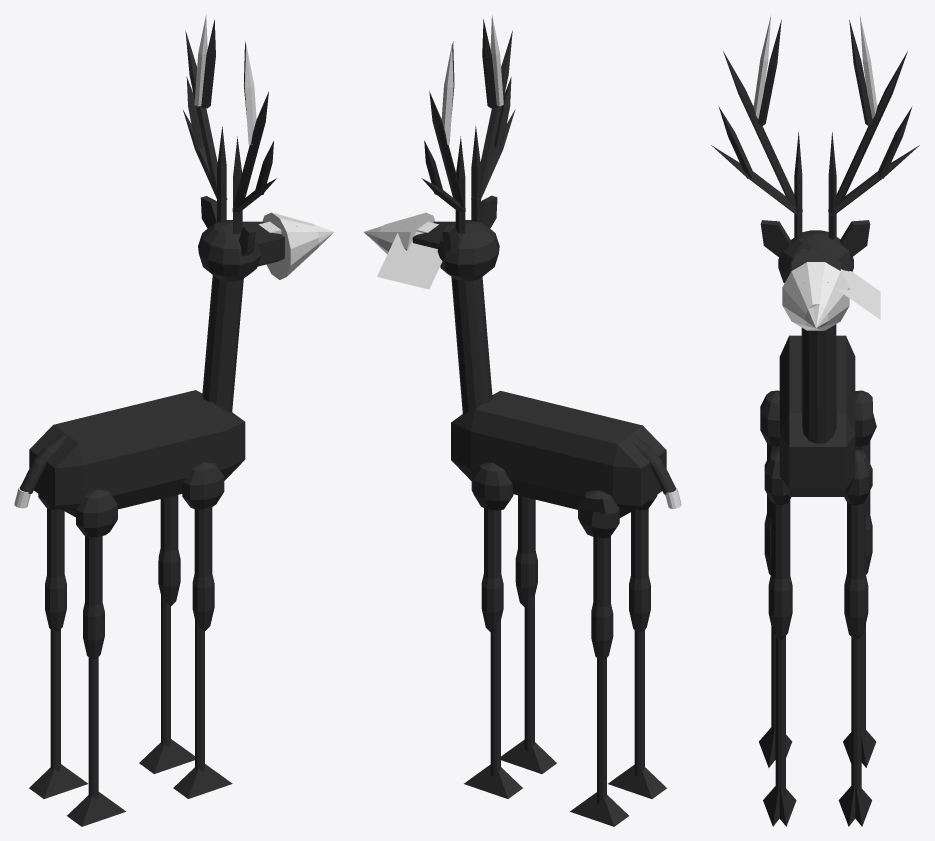
Rendered from DEER 4.fbx.
3 renders of one model, left to right at view 1: azimuth 30°, elevation 25°; view 2: azimuth 150°, elevation 25°; view 3: azimuth 270°, elevation 25°, orthographic. The views are drawn at different scales.
Visible parts, largest first — view 1: beveled_cuboid, neck, head, cone, sphere_6, sphere_2, cylinder_7, cylinder_5, cylinder_3, cylinder_1, cylinder_2, cylinder_6 (+13 smaller); view 2: beveled_cuboid, neck, head, plane, cylinder_3, cylinder_1, sphere_4, sphere, cylinder_7, cylinder_5, cone, cylinder_4 (+13 smaller); view 3: beveled_cuboid, neck, cone, cylinder_1, cylinder_3, head, cylinder_2, cylinder, sphere_1, sphere_3, cylinder_16, cylinder_26 (+25 smaller).
Boxes of the visible parts, bbox=[...] form: beveled_cuboid: bbox=[29, 390, 245, 517]; neck: bbox=[202, 275, 243, 412]; head: bbox=[198, 220, 261, 281]; cone: bbox=[262, 212, 333, 279]; sphere_6: bbox=[76, 489, 117, 537]; sphere_2: bbox=[182, 462, 224, 509]; cylinder_7: bbox=[88, 657, 98, 799]; cylinder_5: bbox=[50, 629, 60, 771]; cylinder_3: bbox=[195, 618, 204, 771]; cylinder_1: bbox=[161, 593, 170, 746]; cylinder_2: bbox=[194, 507, 212, 576]; cylinder_6: bbox=[85, 536, 102, 605]; beveled_cuboid: bbox=[451, 391, 666, 517]; neck: bbox=[451, 277, 492, 414]; head: bbox=[437, 220, 499, 281]; plane: bbox=[377, 231, 442, 289]; cylinder_3: bbox=[524, 594, 534, 751]; cylinder_1: bbox=[490, 619, 500, 776]; sphere_4: bbox=[578, 490, 619, 537]; sphere: bbox=[471, 462, 513, 510]; cylinder_7: bbox=[634, 630, 644, 776]; cylinder_5: bbox=[597, 658, 606, 804]; cone: bbox=[364, 212, 435, 254]; cylinder_4: bbox=[593, 536, 610, 607]; beveled_cuboid: bbox=[779, 335, 855, 496]; neck: bbox=[801, 324, 836, 443]; cone: bbox=[782, 262, 849, 330]; cylinder_1: bbox=[851, 636, 861, 795]; cylinder_3: bbox=[775, 636, 785, 795]; head: bbox=[778, 230, 853, 282]; cylinder_2: bbox=[771, 500, 790, 579]; cylinder: bbox=[847, 500, 865, 579]; sphere_1: bbox=[844, 574, 868, 640]; sphere_3: bbox=[768, 574, 792, 640]; cylinder_16: bbox=[835, 90, 892, 206]; cylinder_26: bbox=[738, 90, 795, 206].
Size of the model in its own units: 606 by 1344 by 313.
1 material, 1 textured.
